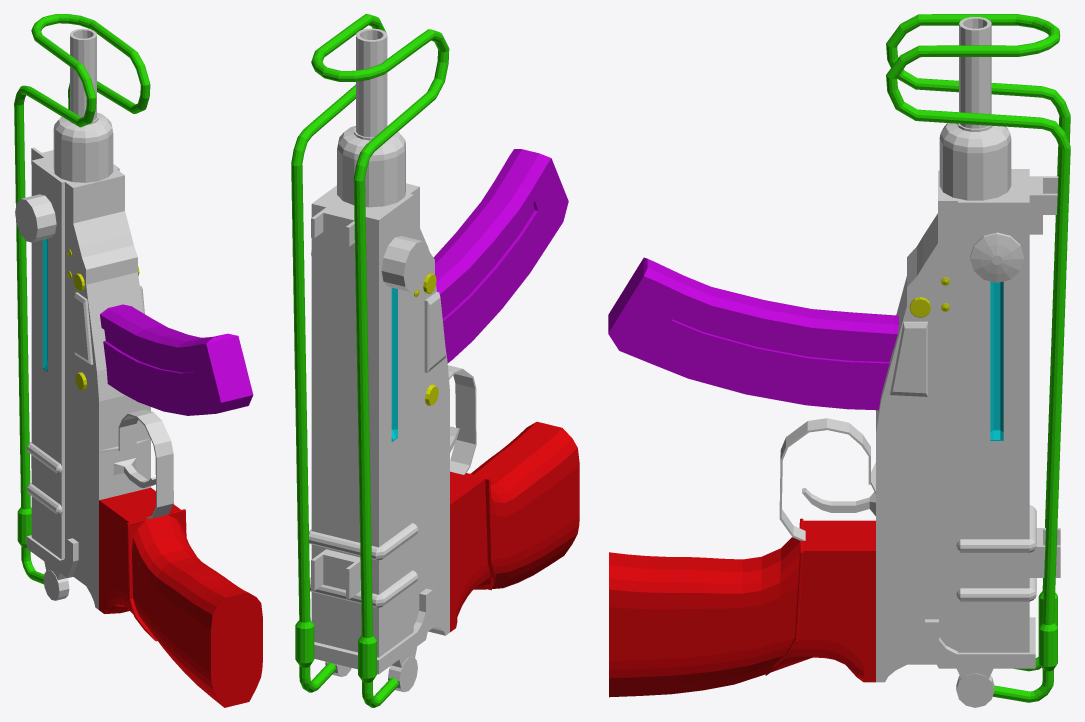
File: CZVZ68.fbx
The picture shows the model from 3 angles, left to right: view 1: azimuth 30°, elevation 25°; view 2: azimuth 150°, elevation 25°; view 3: azimuth 270°, elevation 25°; orthographic projection. The views are drawn at different scales.
Visible parts, largest first — view 1: Gun; view 2: Gun; view 3: Gun.
Boxes of the visible parts, x1,y1,x2,y2 form: Gun: (14,14,262,707); Gun: (291,14,579,707); Gun: (608,14,1070,707).
Size of the model in its own units: 3.37 by 21.71 by 13.66.
